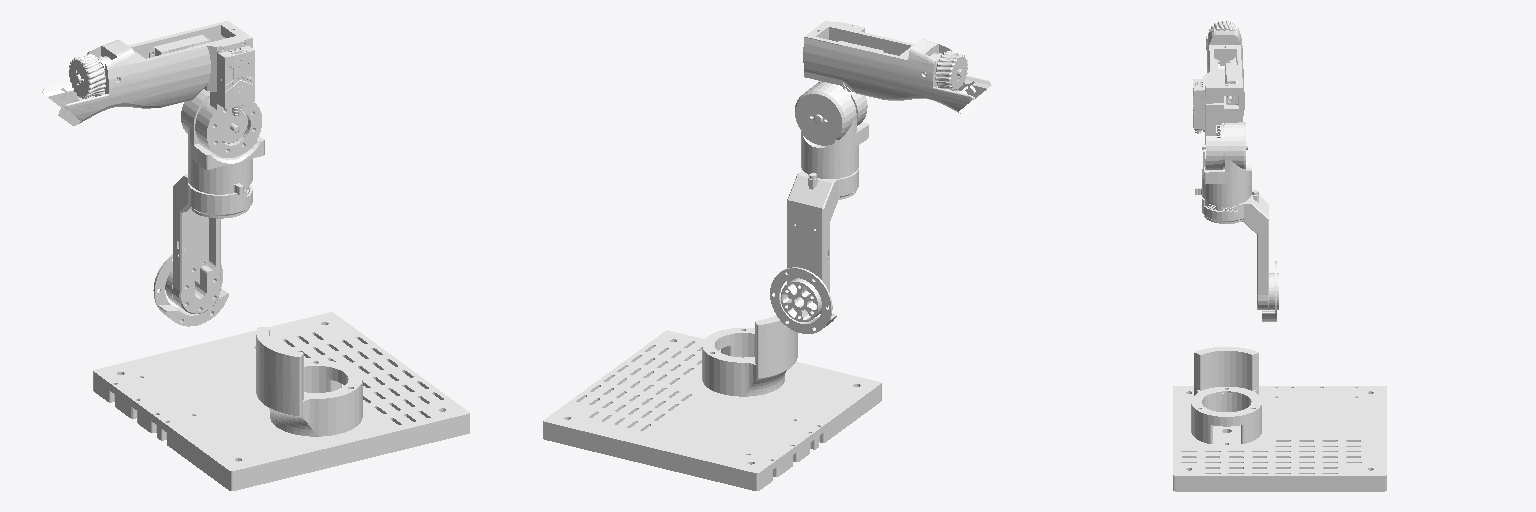
The robot description file, URDF, robot "controller_urdf_v4":
<?xml version="1.0" encoding="utf-8"?>
<!-- This URDF was automatically created by SolidWorks to URDF Exporter! Originally created by Stephen Brawner (brawner@gmail.com) 
     Commit Version: 1.6.0-4-g7f85cfe  Build Version: 1.6.7995.38578
     For more information, please see http://wiki.ros.org/sw_urdf_exporter -->
<robot
  name="controller_urdf_v4">
  <link
    name="base_link">
    <inertial>
      <origin
        xyz="-0.00452479285083804 0.0399307029238856 0.00111514773756127"
        rpy="0 0 0" />
      <mass
        value="0.437449001710866" />
      <inertia
        ixx="0.00148073958493475"
        ixy="-1.11095713658051E-05"
        ixz="1.80497529292023E-05"
        iyy="0.00144874771507664"
        iyz="-2.61536284557322E-07"
        izz="0.00286816803826188" />
    </inertial>
    <visual>
      <origin
        xyz="0 0 0"
        rpy="0 0 0" />
      <geometry>
        <mesh
          filename="package://controller_urdf_v4/meshes/base_link.STL" />
      </geometry>
      <material
        name="">
        <color
          rgba="1 1 1 1" />
      </material>
    </visual>
    <collision>
      <origin
        xyz="0 0 0"
        rpy="0 0 0" />
      <geometry>
        <mesh
          filename="package://controller_urdf_v4/meshes/base_link.STL" />
      </geometry>
    </collision>
  </link>
  <link
    name="link1">
    <inertial>
      <origin
        xyz="0.0059575345564983 0.0191623184388435 0.0298796248569506"
        rpy="0 0 0" />
      <mass
        value="0.480839058562563" />
      <inertia
        ixx="0.000164994755718725"
        ixy="-3.33140116851479E-06"
        ixz="-5.56555206174127E-06"
        iyy="0.000174726627796511"
        iyz="-8.61281489208601E-06"
        izz="0.000228891700075399" />
    </inertial>
    <visual>
      <origin
        xyz="0 0 0"
        rpy="0 0 0" />
      <geometry>
        <mesh
          filename="package://controller_urdf_v4/meshes/link1.STL" />
      </geometry>
      <material
        name="">
        <color
          rgba="0.309803921568627 0.309803921568627 0.309803921568627 1" />
      </material>
    </visual>
    <collision>
      <origin
        xyz="0 0 0"
        rpy="0 0 0" />
      <geometry>
        <mesh
          filename="package://controller_urdf_v4/meshes/link1.STL" />
      </geometry>
    </collision>
  </link>
  <joint
    name="joint1"
    type="revolute">
    <origin
      xyz="0 0 0.0426"
      rpy="0 0 0" />
    <parent
      link="base_link" />
    <child
      link="link1" />
    <axis
      xyz="0 0 1" />
    <limit
      lower="-3.14"
      upper="3.14"
      effort="0"
      velocity="0" />
  </joint>
  <link
    name="link2">
    <inertial>
      <origin
        xyz="-5.48773476931608E-05 0.0843257181877542 -0.0190440540084247"
        rpy="0 0 0" />
      <mass
        value="0.149564607656572" />
      <inertia
        ixx="0.000107191549732007"
        ixy="2.7199738344278E-08"
        ixz="-4.18287103174879E-08"
        iyy="4.33588640059433E-05"
        iyz="-5.23197088841514E-10"
        izz="0.000132229441939786" />
    </inertial>
    <visual>
      <origin
        xyz="0 0 0"
        rpy="0 0 0" />
      <geometry>
        <mesh
          filename="package://controller_urdf_v4/meshes/link2.STL" />
      </geometry>
      <material
        name="">
        <color
          rgba="1 1 1 1" />
      </material>
    </visual>
    <collision>
      <origin
        xyz="0 0 0"
        rpy="0 0 0" />
      <geometry>
        <mesh
          filename="package://controller_urdf_v4/meshes/link2.STL" />
      </geometry>
    </collision>
  </link>
  <joint
    name="joint2"
    type="revolute">
    <origin
      xyz="0.02 0.055 0.064041"
      rpy="1.5708 -1.5708 0" />
    <parent
      link="link1" />
    <child
      link="link2" />
    <axis
      xyz="0 0 1" />
    <limit
      lower="-3.14"
      upper="3.14"
      effort="0"
      velocity="0" />
  </joint>
  <link
    name="link3">
    <inertial>
      <origin
        xyz="0.0642599329959632 6.59760318369174E-05 0.0372456371248859"
        rpy="0 0 0" />
      <mass
        value="0.103129376453745" />
      <inertia
        ixx="2.90099825160604E-05"
        ixy="-4.19488599908593E-07"
        ixz="-1.33976998791661E-05"
        iyy="8.1575798765143E-05"
        iyz="-3.78248452018843E-07"
        izz="7.89447570062028E-05" />
    </inertial>
    <visual>
      <origin
        xyz="0 0 0"
        rpy="0 0 0" />
      <geometry>
        <mesh
          filename="package://controller_urdf_v4/meshes/link3.STL" />
      </geometry>
      <material
        name="">
        <color
          rgba="1 1 1 1" />
      </material>
    </visual>
    <collision>
      <origin
        xyz="0 0 0"
        rpy="0 0 0" />
      <geometry>
        <mesh
          filename="package://controller_urdf_v4/meshes/link3.STL" />
      </geometry>
    </collision>
  </link>
  <joint
    name="joint3"
    type="revolute">
    <origin
      xyz="0 0.1 0"
      rpy="0 0 0" />
    <parent
      link="link2" />
    <child
      link="link3" />
    <axis
      xyz="0 0 1" />
    <limit
      lower="-3.14"
      upper="3.14"
      effort="0"
      velocity="0" />
  </joint>
  <link
    name="link4">
    <inertial>
      <origin
        xyz="1.70515052060338E-05 0.000575806646405541 0.0393747097569462"
        rpy="0 0 0" />
      <mass
        value="0.0799489748689938" />
      <inertia
        ixx="2.39708791986305E-05"
        ixy="-4.22690966074908E-08"
        ixz="2.17809596040612E-08"
        iyy="2.72852557101625E-05"
        iyz="-2.85806272432528E-06"
        izz="2.27558425417072E-05" />
    </inertial>
    <visual>
      <origin
        xyz="0 0 0"
        rpy="0 0 0" />
      <geometry>
        <mesh
          filename="package://controller_urdf_v4/meshes/link4.STL" />
      </geometry>
      <material
        name="">
        <color
          rgba="1 1 1 1" />
      </material>
    </visual>
    <collision>
      <origin
        xyz="0 0 0"
        rpy="0 0 0" />
      <geometry>
        <mesh
          filename="package://controller_urdf_v4/meshes/link4.STL" />
      </geometry>
    </collision>
  </link>
  <joint
    name="joint4"
    type="revolute">
    <origin
      xyz="0.1 0 0.055"
      rpy="-1.5708 0 -1.5708" />
    <parent
      link="link3" />
    <child
      link="link4" />
    <axis
      xyz="0 0 -1" />
    <limit
      lower="-3.14"
      upper="3.14"
      effort="0"
      velocity="0" />
  </joint>
  <link
    name="link5">
    <inertial>
      <origin
        xyz="0.0501566338267909 0.0490284478069671 0.00080927087540879"
        rpy="0 0 0" />
      <mass
        value="0.195241175955602" />
      <inertia
        ixx="0.000110568883707503"
        ixy="-4.1717483700643E-06"
        ixz="3.552386594742E-06"
        iyy="6.01366490581218E-05"
        iyz="-3.24940857113179E-06"
        izz="0.000129981122501831" />
    </inertial>
    <visual>
      <origin
        xyz="0 0 0"
        rpy="0 0 0" />
      <geometry>
        <mesh
          filename="package://controller_urdf_v4/meshes/link5.STL" />
      </geometry>
      <material
        name="">
        <color
          rgba="1 1 1 1" />
      </material>
    </visual>
    <collision>
      <origin
        xyz="0 0 0"
        rpy="0 0 0" />
      <geometry>
        <mesh
          filename="package://controller_urdf_v4/meshes/link5.STL" />
      </geometry>
    </collision>
  </link>
  <joint
    name="joint5"
    type="revolute">
    <origin
      xyz="5.5833E-05 -0.0030495 0.0501"
      rpy="1.5708 -1.5708 0" />
    <parent
      link="link4" />
    <child
      link="link5" />
    <axis
      xyz="0 0.018306 -0.99983" />
    <limit
      lower="-3.14"
      upper="3.14"
      effort="0"
      velocity="0" />
  </joint>
  <link
    name="link6">
    <inertial>
      <origin
        xyz="-0.000401225029513286 0.000146508204416994 -0.00856389945388139"
        rpy="0 0 0" />
      <mass
        value="0.009551051850161" />
      <inertia
        ixx="6.73081095683402E-07"
        ixy="-1.86673072843796E-10"
        ixz="-1.30302800267515E-09"
        iyy="6.91624171872587E-07"
        iyz="-6.88907714996035E-09"
        izz="1.07637227037784E-06" />
    </inertial>
    <visual>
      <origin
        xyz="0 0 0"
        rpy="0 0 0" />
      <geometry>
        <mesh
          filename="package://controller_urdf_v4/meshes/link6.STL" />
      </geometry>
      <material
        name="">
        <color
          rgba="1 1 1 1" />
      </material>
    </visual>
    <collision>
      <origin
        xyz="0 0 0"
        rpy="0 0 0" />
      <geometry>
        <mesh
          filename="package://controller_urdf_v4/meshes/link6.STL" />
      </geometry>
    </collision>
  </link>
  <joint
    name="joint6"
    type="revolute">
    <origin
      xyz="0.059944 0.099692 -0.0011752"
      rpy="1.5708 0 0" />
    <parent
      link="link5" />
    <child
      link="link6" />
    <axis
      xyz="0.0036982 0.018306 -0.99983" />
    <limit
      lower="-3.14"
      upper="3.14"
      effort="0"
      velocity="0" />
  </joint>
</robot>

--- What the picture shows (computed from the rendered views, not written in the file) ---
3 views of the same robot in one strip: view 1: azimuth 30°, elevation 25°; view 2: azimuth 150°, elevation 25°; view 3: azimuth 270°, elevation 25° (orthographic).
Robot: controller_urdf_v4 — 7 links, 6 joints (6 revolute); root link base_link; default pose: all joints at 0.
Visible links, largest first — view 1: base_link, link5, link3, link4, link6; view 2: base_link, link5, link3, link4, link6; view 3: base_link, link5, link3, link4.
Link boxes in pixels (x1=…): base_link: x1=93, y1=312, x2=469, y2=490; link5: x1=42, y1=21, x2=261, y2=157; link3: x1=153, y1=174, x2=252, y2=326; link4: x1=181, y1=89, x2=264, y2=194; link6: x1=69, y1=54, x2=110, y2=98; base_link: x1=543, y1=315, x2=881, y2=490; link5: x1=803, y1=21, x2=992, y2=125; link3: x1=770, y1=168, x2=858, y2=333; link4: x1=795, y1=81, x2=868, y2=177; link6: x1=930, y1=51, x2=967, y2=90; base_link: x1=1173, y1=347, x2=1386, y2=491; link5: x1=1193, y1=29, x2=1244, y2=169; link3: x1=1202, y1=189, x2=1278, y2=321; link4: x1=1195, y1=122, x2=1251, y2=204.
Bounding box of the posed robot: 0.3213 × 0.2 × 0.3509 m (x, y, z).
5 mesh visuals loaded from 7 distinct referenced files (5 binary STL); not drawn: 2 (reference not matched to a file when rendering).
